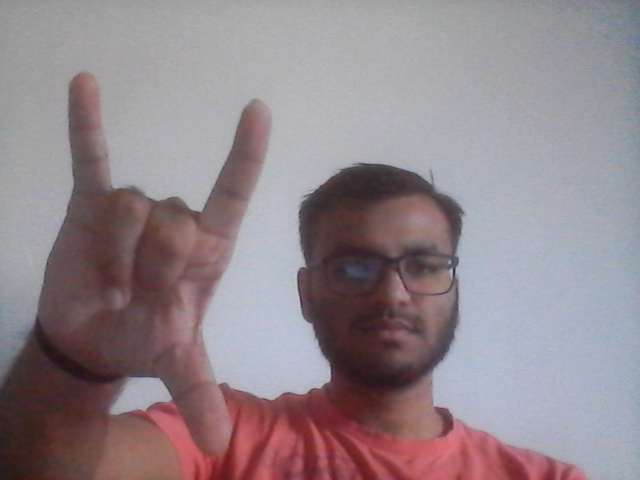I Love You: (38, 65, 277, 455)
